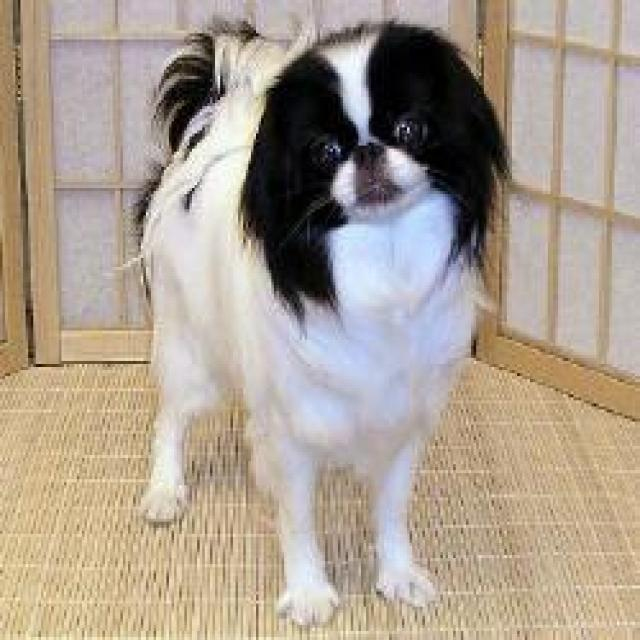husky: (128, 15, 520, 625)
